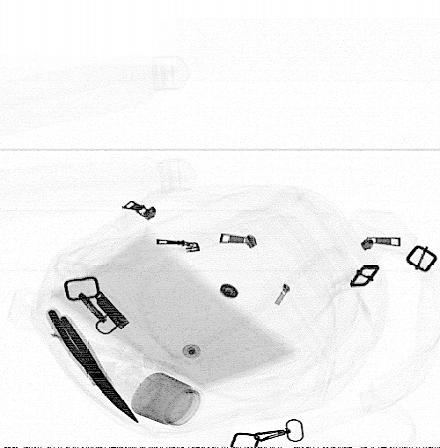Pliers: (44, 305, 141, 423)
